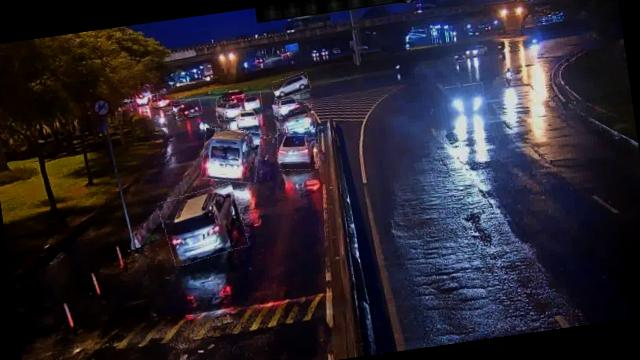Bus: (198, 123, 264, 187)
Car: (158, 182, 248, 264), (273, 123, 322, 173), (442, 82, 486, 116), (270, 72, 310, 98), (282, 104, 314, 133), (213, 96, 249, 121), (231, 90, 262, 113), (174, 98, 202, 119), (235, 107, 262, 128)
